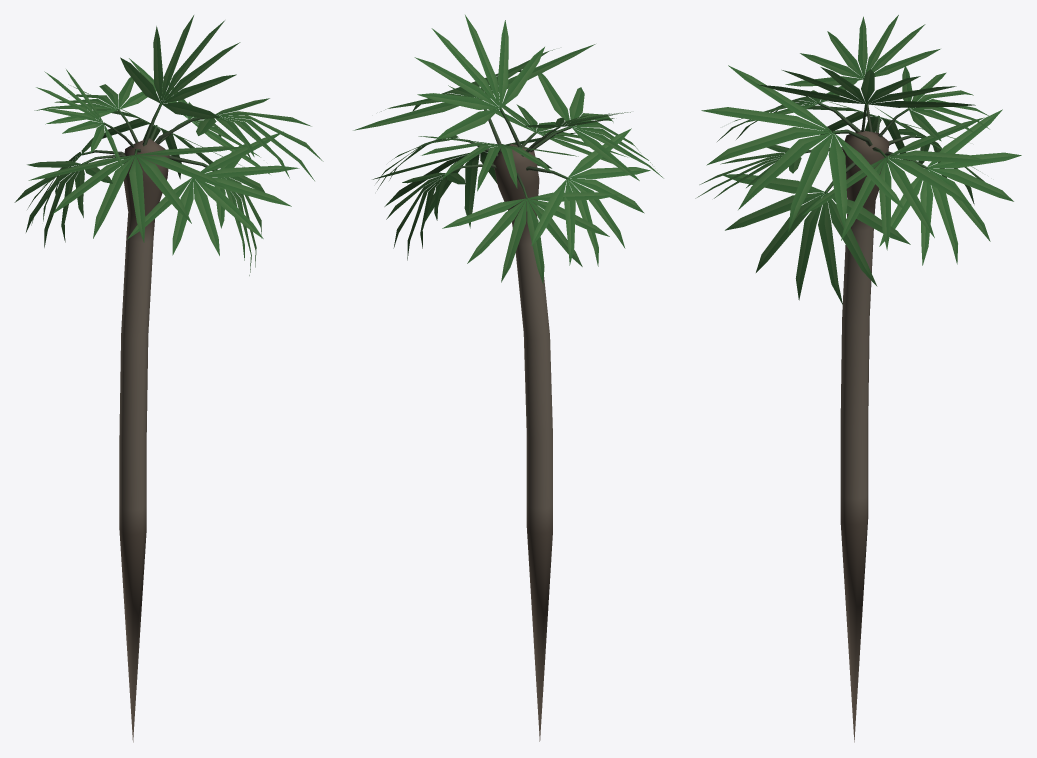
The model's file is trees-palms-ferns-bushy-palm_v1.glb.
3 views of the same model, side by side, from view 1: azimuth 30°, elevation 25°; view 2: azimuth 150°, elevation 25°; view 3: azimuth 270°, elevation 25° (orthographic). The views are drawn at different scales.
Parts seen in each view (by area): view 1: Bushy Palm_v1; view 2: Bushy Palm_v1; view 3: Bushy Palm_v1.
Boxes of the visible parts, left/top/right/bottom form: Bushy Palm_v1: left=14, top=15, right=323, bottom=742; Bushy Palm_v1: left=353, top=15, right=663, bottom=741; Bushy Palm_v1: left=695, top=15, right=1021, bottom=742.
Size of the model in its own units: 3.36 by 8 by 3.27.
